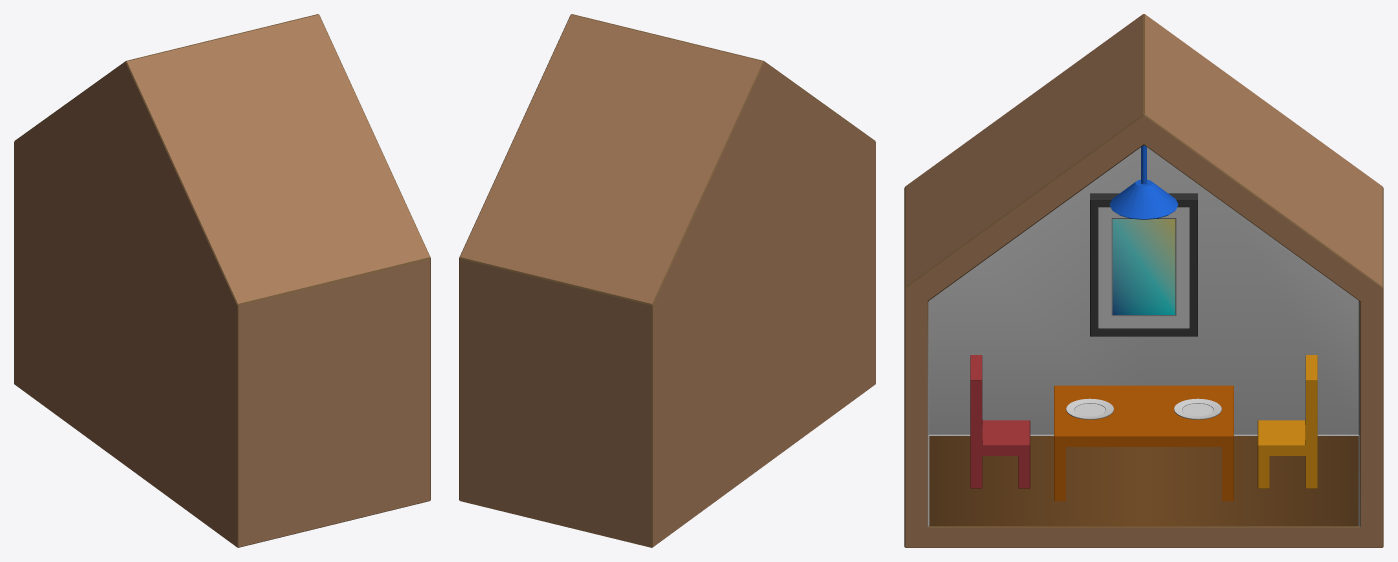
Rendered from house.glb.
3 views of the same model, side by side, from view 1: azimuth 30°, elevation 25°; view 2: azimuth 150°, elevation 25°; view 3: azimuth 270°, elevation 25° (orthographic). The views are drawn at different scales.
Parts seen in each view (by area): view 1: house; view 2: house; view 3: house, picture, table, chair.000, chair.001, lamp, plate.000, plate.001.
Boxes of the visible parts, bbox=[...] form: house: bbox=[14, 14, 430, 547]; house: bbox=[459, 14, 875, 547]; house: bbox=[904, 14, 1383, 547]; picture: bbox=[1090, 193, 1197, 336]; table: bbox=[1054, 385, 1233, 501]; chair.000: bbox=[970, 355, 1030, 488]; chair.001: bbox=[1257, 355, 1317, 488]; lamp: bbox=[1109, 145, 1178, 219]; plate.000: bbox=[1066, 398, 1113, 419]; plate.001: bbox=[1174, 398, 1221, 419].
Bounding box in the file's own units: 1 × 2 × 2.
